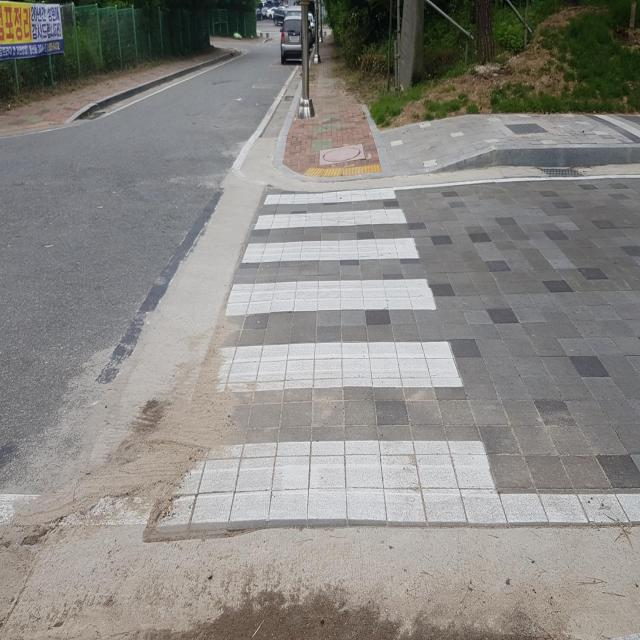횡단보도: (155, 184, 510, 529)
